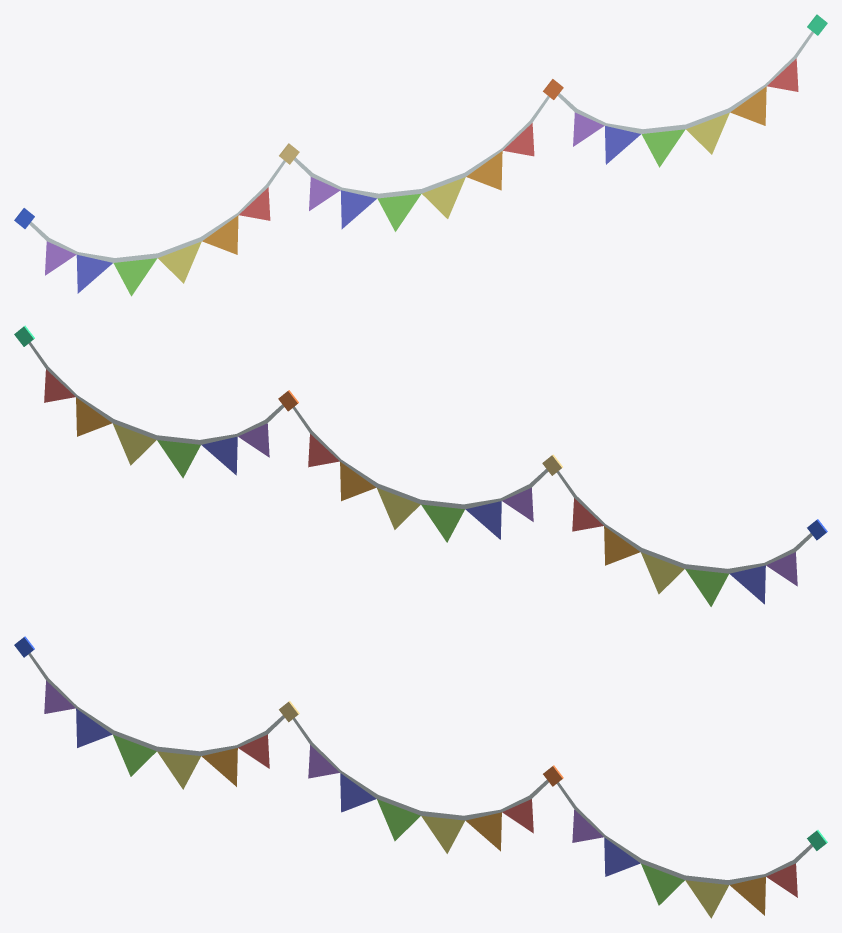
Rendered from Garland.fbx.
3 renders of one model, top to bottom at view 1: azimuth 30°, elevation 25°; view 2: azimuth 150°, elevation 25°; view 3: azimuth 330°, elevation 25°, orthographic.
Parts seen in each view (by area): view 1: Garland; view 2: Garland; view 3: Garland.
Boxes of the visible parts, x1,y1,x2,y2 form: Garland: (14,14,827,296); Garland: (14,325,827,606); Garland: (14,636,827,918).
Bounding box in the file's own units: 1194 × 161 × 3.23.
1 material, 1 textured.
